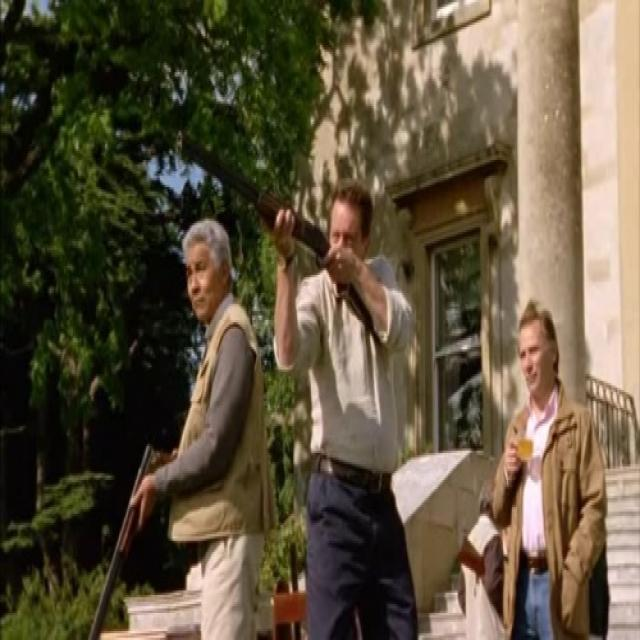rifle: (175, 133, 378, 343), (84, 442, 180, 640)
